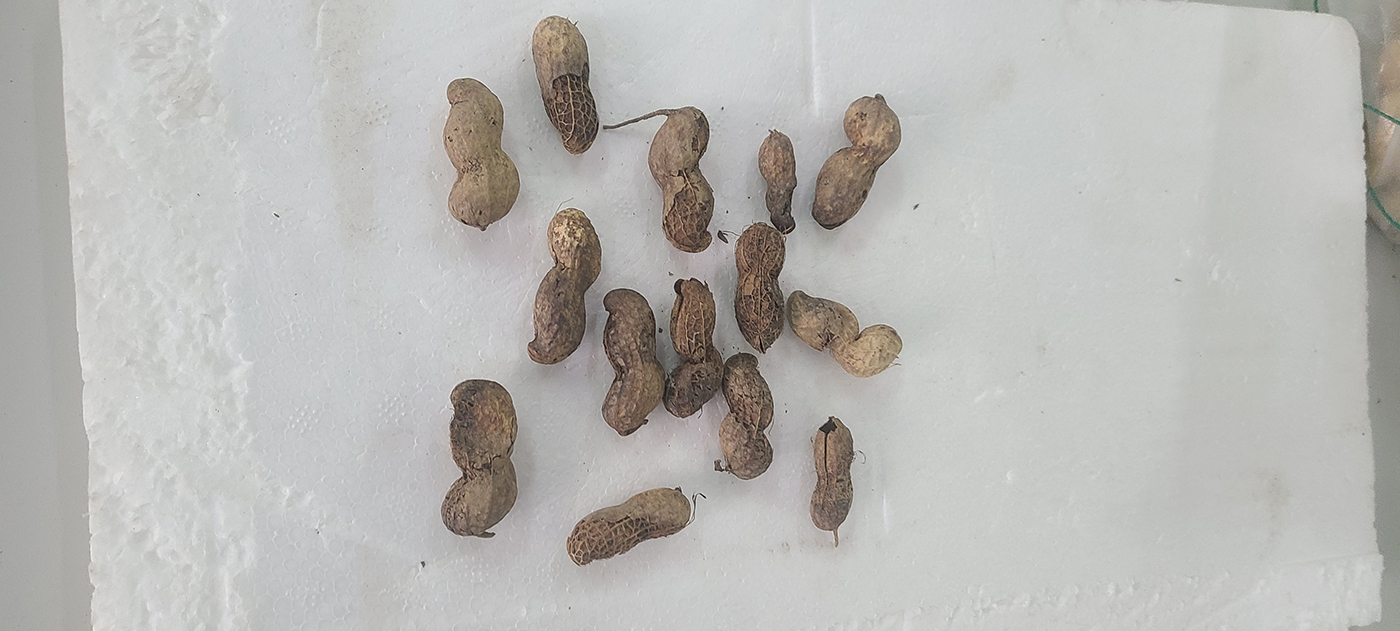l: (440, 380, 520, 537), (811, 95, 902, 230), (441, 77, 520, 226), (528, 209, 602, 365), (787, 290, 902, 379), (648, 105, 716, 253), (567, 487, 692, 565), (601, 287, 666, 435), (530, 17, 599, 153), (663, 278, 725, 419), (719, 351, 775, 480), (736, 223, 786, 353), (808, 415, 854, 532), (758, 131, 798, 235)
